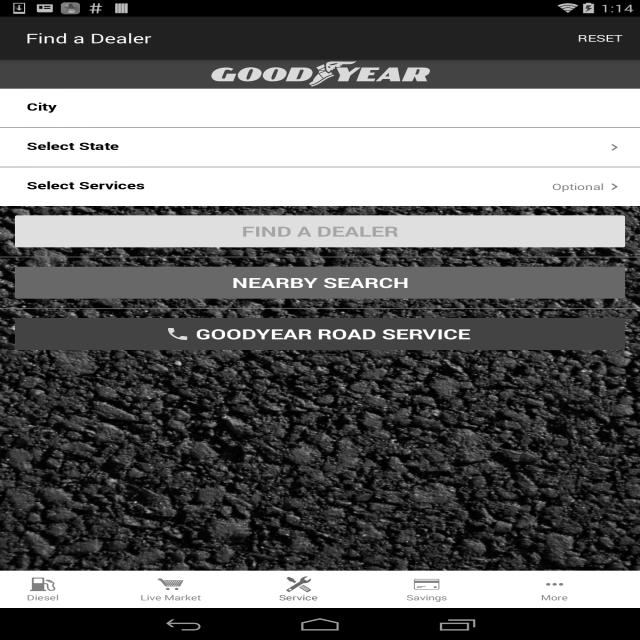Button: (11, 212, 629, 252), (11, 262, 629, 302), (11, 314, 629, 354)
EditText: (27, 137, 629, 154), (27, 98, 629, 114), (27, 177, 552, 193)
ImageView: (0, 59, 640, 89), (30, 576, 55, 592), (94, 576, 119, 592), (158, 576, 183, 592), (222, 576, 247, 592), (286, 576, 311, 592), (350, 576, 375, 592), (414, 576, 439, 592), (478, 576, 503, 592), (542, 576, 567, 592), (606, 576, 631, 592), (602, 141, 627, 154), (602, 180, 627, 193)
TextView: (26, 29, 152, 47), (568, 22, 632, 54), (552, 180, 606, 192), (140, 592, 201, 602), (406, 592, 447, 602), (279, 592, 318, 602), (26, 592, 58, 602), (541, 592, 568, 602)
